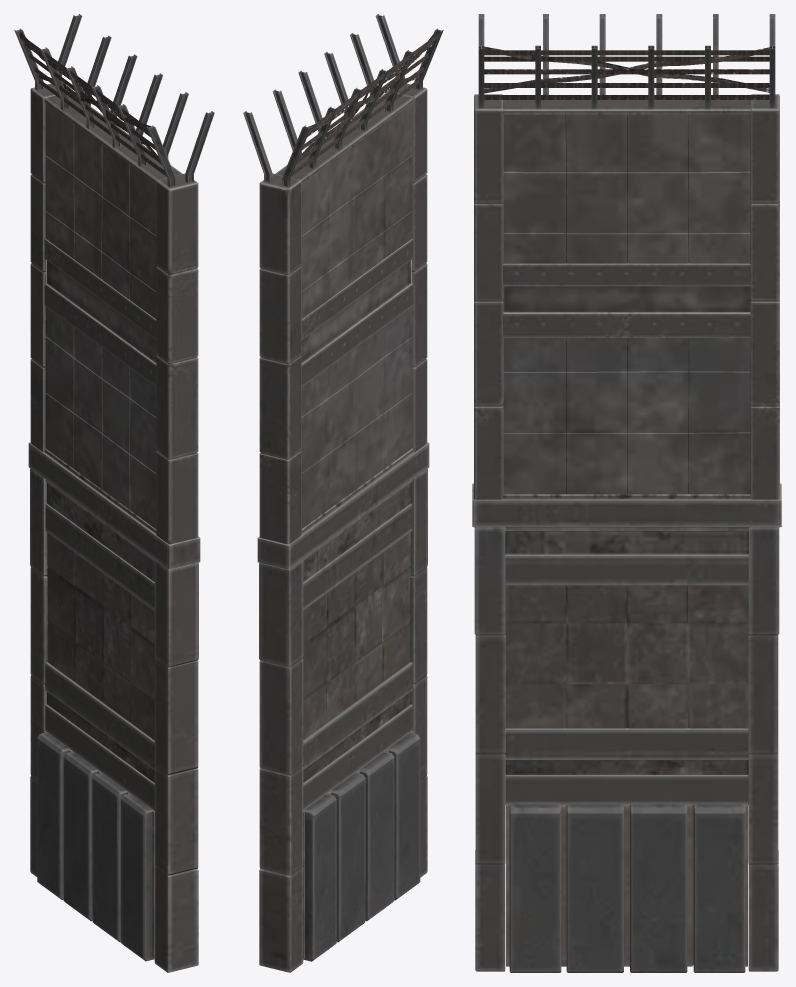
File: SM_DefenseWall_Iron_c19b20.glb
The picture shows the model from 3 angles, left to right: view 1: azimuth 30°, elevation 25°; view 2: azimuth 150°, elevation 25°; view 3: azimuth 270°, elevation 25°; orthographic projection. The views are drawn at different scales.
Bounding box in the file's own units: 1.08 × 13.44 × 4.04.
2 materials, 2 textured.
